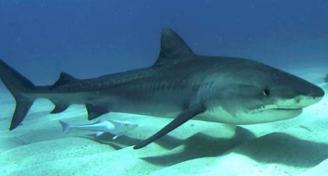Shark -Selachimorpha-: (0, 21, 328, 149)
